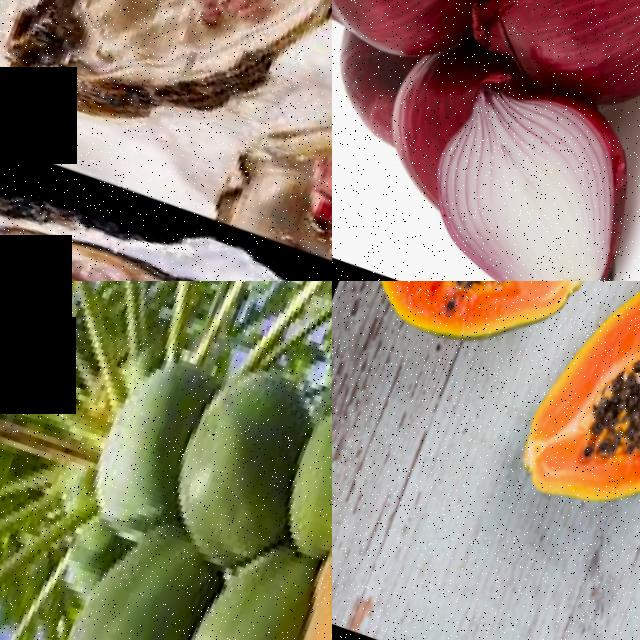onion: (400, 65, 640, 281), (463, 0, 640, 138)
oysters: (0, 0, 332, 191), (0, 109, 332, 281)
pawpaw: (494, 281, 640, 553), (155, 345, 332, 561), (333, 281, 631, 386), (30, 531, 219, 640), (150, 539, 327, 640), (276, 388, 332, 554)
